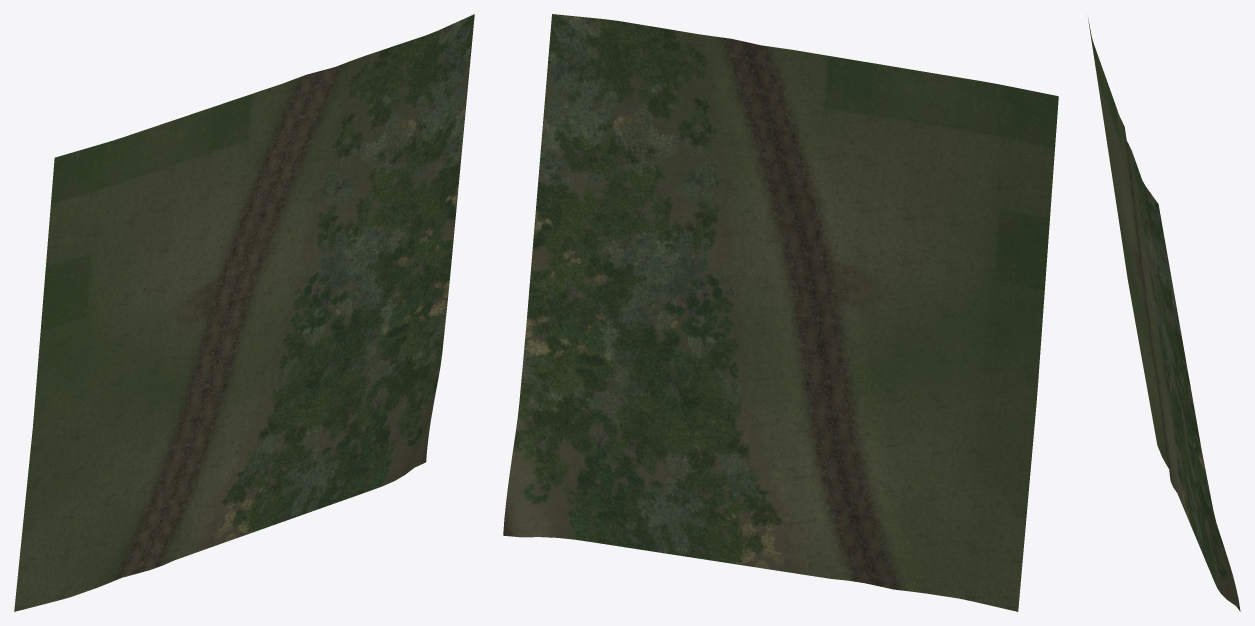
Rendered from terrain_core_04_02.obj.
3 renders of one model, left to right at view 1: azimuth 30°, elevation 25°; view 2: azimuth 150°, elevation 25°; view 3: azimuth 270°, elevation 25°, orthographic. The views are drawn at different scales.
Parts seen in each view (by area): view 1: terrain_core_04_02; view 2: terrain_core_04_02; view 3: terrain_core_04_02.
Boxes of the visible parts, bbox=[...] form: terrain_core_04_02: bbox=[14, 14, 474, 611]; terrain_core_04_02: bbox=[503, 14, 1058, 611]; terrain_core_04_02: bbox=[1088, 18, 1240, 611].
Bounding box in the file's own units: 32 × 32 × 10.89.
Materials: 1 (1 with a texture image).
